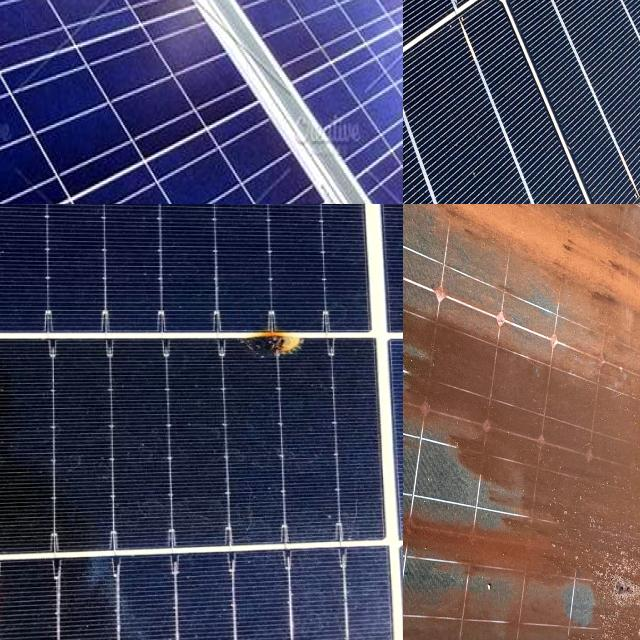crack: (0, 0, 403, 204), (164, 0, 403, 204), (403, 0, 634, 204), (407, 0, 640, 139), (487, 0, 640, 204), (403, 0, 527, 168), (0, 0, 228, 84), (118, 0, 361, 67)
dust: (403, 361, 584, 493), (403, 506, 569, 615), (460, 235, 640, 329), (427, 204, 640, 267), (403, 314, 513, 398), (585, 510, 640, 640), (596, 325, 640, 486), (403, 564, 494, 640), (403, 204, 467, 270), (403, 208, 490, 254)
shadow: (215, 304, 326, 380), (0, 318, 89, 379)
